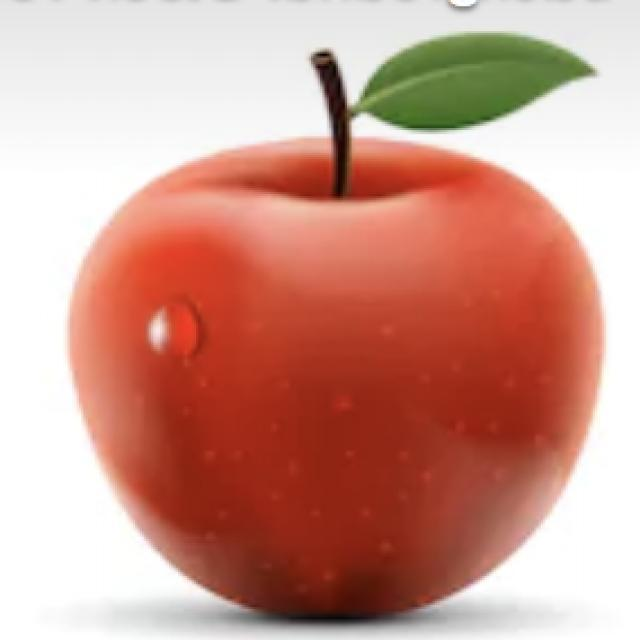Fresh Apple: (58, 130, 605, 620)
